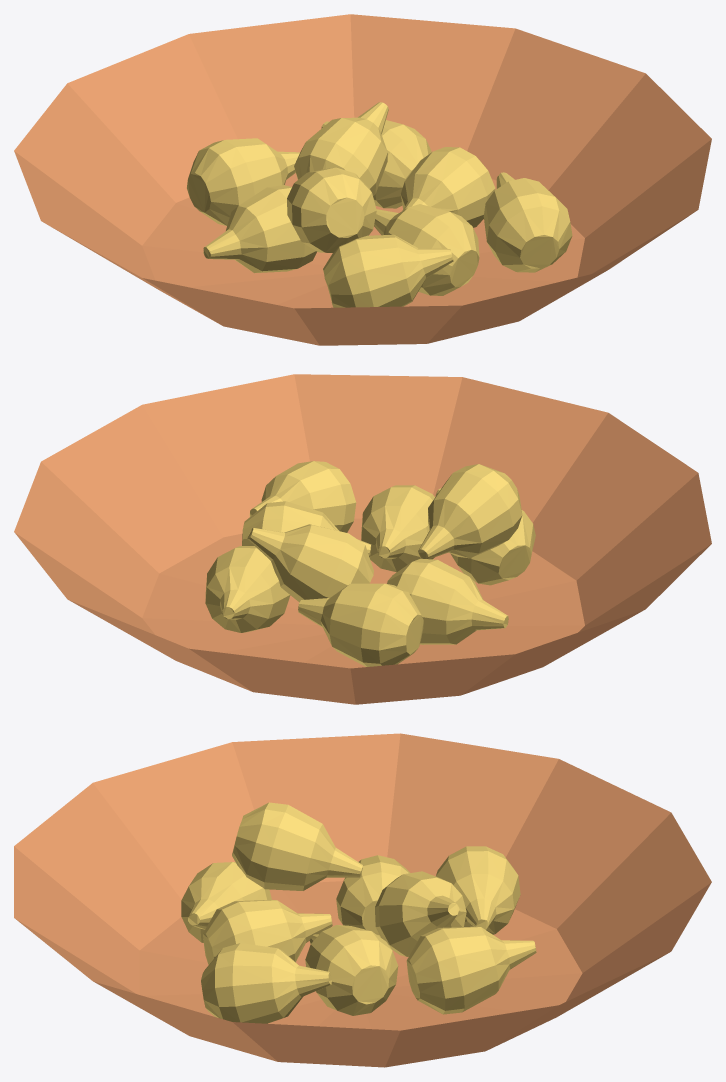
File: camas-bowl.glb
The picture shows the model from 3 angles, top to bottom: view 1: azimuth 30°, elevation 25°; view 2: azimuth 150°, elevation 25°; view 3: azimuth 270°, elevation 25°; orthographic projection.
Visible parts, largest first — view 1: Cylinder.009, Cylinder.008, Cylinder.006, Cylinder.010, Cylinder.014, Cylinder.005, Cylinder.012, Cylinder.011, Cylinder.013, Cylinder.007; view 2: Cylinder.009, Cylinder.010, Cylinder.014, Cylinder.013, Cylinder.005, Cylinder.007, Cylinder.012, Cylinder.006, Cylinder.008, Cylinder.011; view 3: Cylinder.009, Cylinder.007, Cylinder.014, Cylinder.006, Cylinder.011, Cylinder.013, Cylinder.012, Cylinder.010, Cylinder.008, Cylinder.005.
Part boxes in pixels (<box>): Cylinder.009: <box>14,14,711,345</box>; Cylinder.008: <box>323,234,453,307</box>; Cylinder.006: <box>483,172,572,272</box>; Cylinder.010: <box>187,138,299,225</box>; Cylinder.014: <box>287,167,376,252</box>; Cylinder.005: <box>203,185,316,273</box>; Cylinder.012: <box>374,204,479,295</box>; Cylinder.011: <box>400,147,495,227</box>; Cylinder.013: <box>294,102,388,196</box>; Cylinder.007: <box>321,120,431,208</box>; Cylinder.009: <box>14,374,711,704</box>; Cylinder.010: <box>298,583,423,666</box>; Cylinder.014: <box>418,464,522,559</box>; Cylinder.013: <box>247,524,373,602</box>; Cylinder.005: <box>387,558,508,644</box>; Cylinder.007: <box>205,546,290,632</box>; Cylinder.012: <box>361,485,434,572</box>; Cylinder.006: <box>249,461,356,532</box>; Cylinder.008: <box>435,488,535,585</box>; Cylinder.011: <box>242,501,371,557</box>; Cylinder.009: <box>14,733,711,1067</box>; Cylinder.007: <box>406,926,536,1014</box>; Cylinder.014: <box>232,802,362,890</box>; Cylinder.006: <box>201,943,331,1023</box>; Cylinder.011: <box>305,925,398,1015</box>; Cylinder.013: <box>375,871,466,956</box>; Cylinder.012: <box>203,900,332,964</box>; Cylinder.010: <box>436,846,520,934</box>; Cylinder.008: <box>181,862,271,942</box>; Cylinder.005: <box>336,855,409,937</box>.
Size of the model in its own units: 2.09 by 0.4826 by 2.08.
